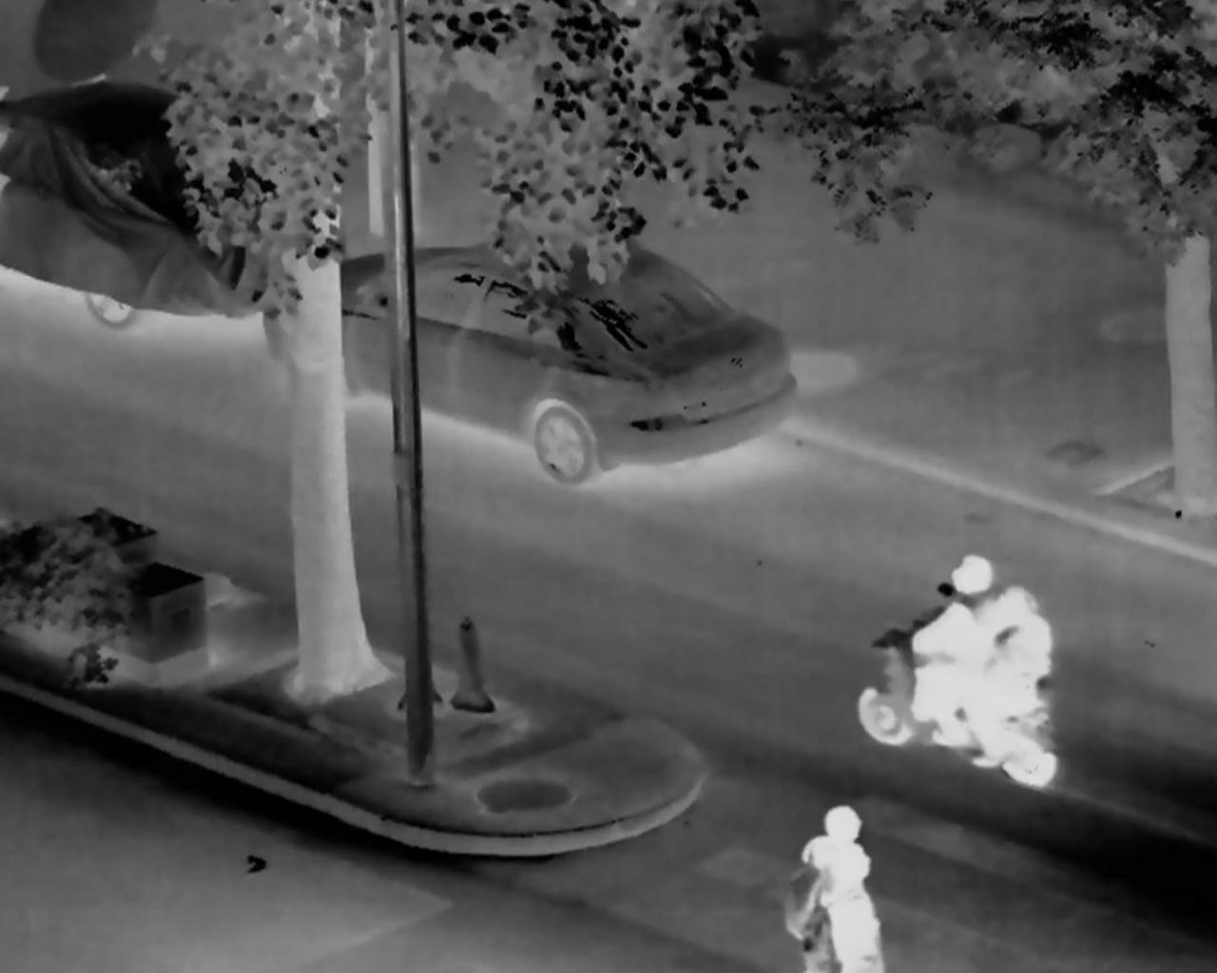person: (903, 553, 999, 755), (973, 585, 1057, 769), (775, 801, 861, 950), (808, 842, 882, 973)
